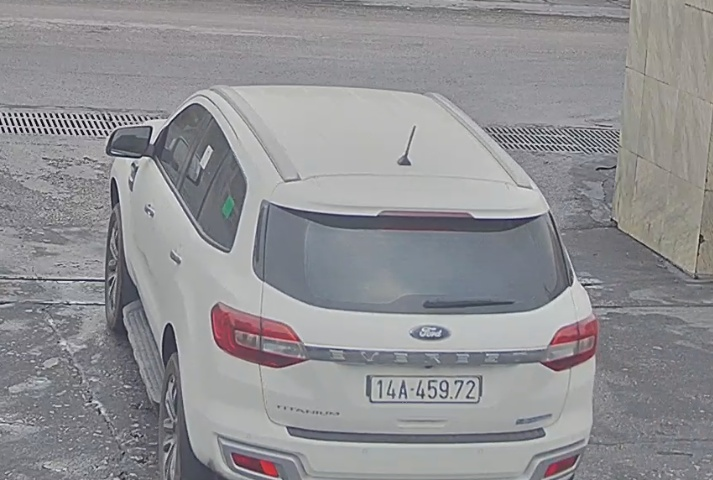vehicle plate: (367, 369, 486, 409)
